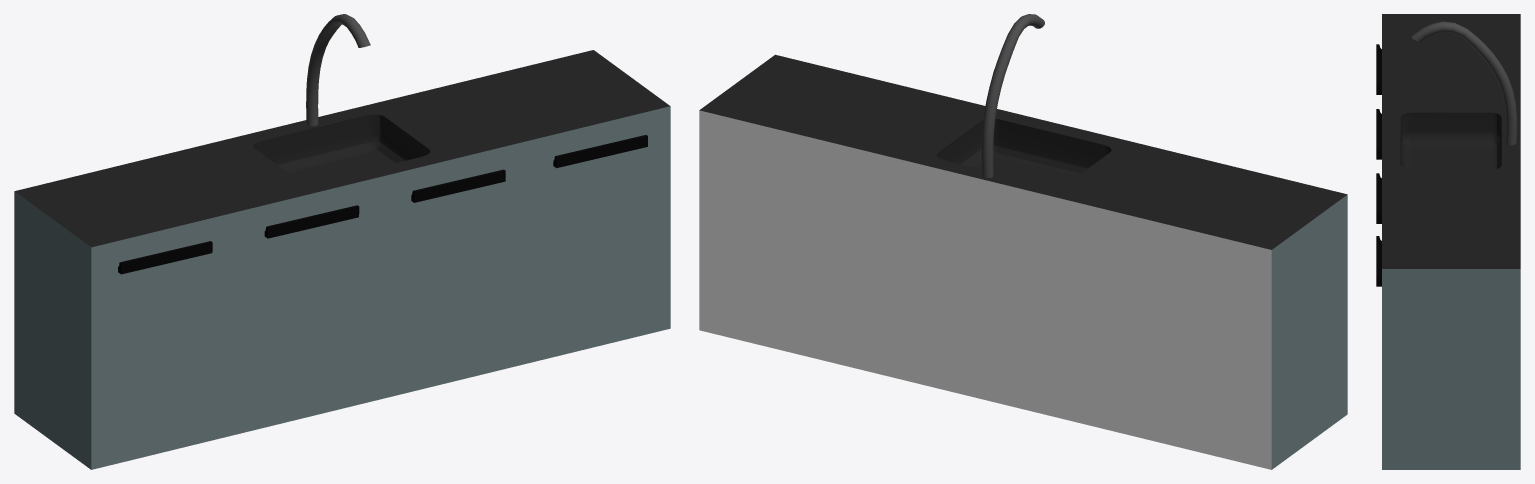
Rendered from mueble_fregadero2.glb.
3 renders of one model, left to right at view 1: azimuth 30°, elevation 25°; view 2: azimuth 150°, elevation 25°; view 3: azimuth 270°, elevation 25°, orthographic. The views are drawn at different scales.
Parts seen in each view (by area): view 1: polySurface75; view 2: polySurface75; view 3: polySurface75.
Part boxes in pixels (<box>): polySurface75: <box>14,14,670,469</box>; polySurface75: <box>699,14,1347,469</box>; polySurface75: <box>1376,14,1520,469</box>.
Size of the model in its own units: 0.0629 by 0.037 by 0.015.
